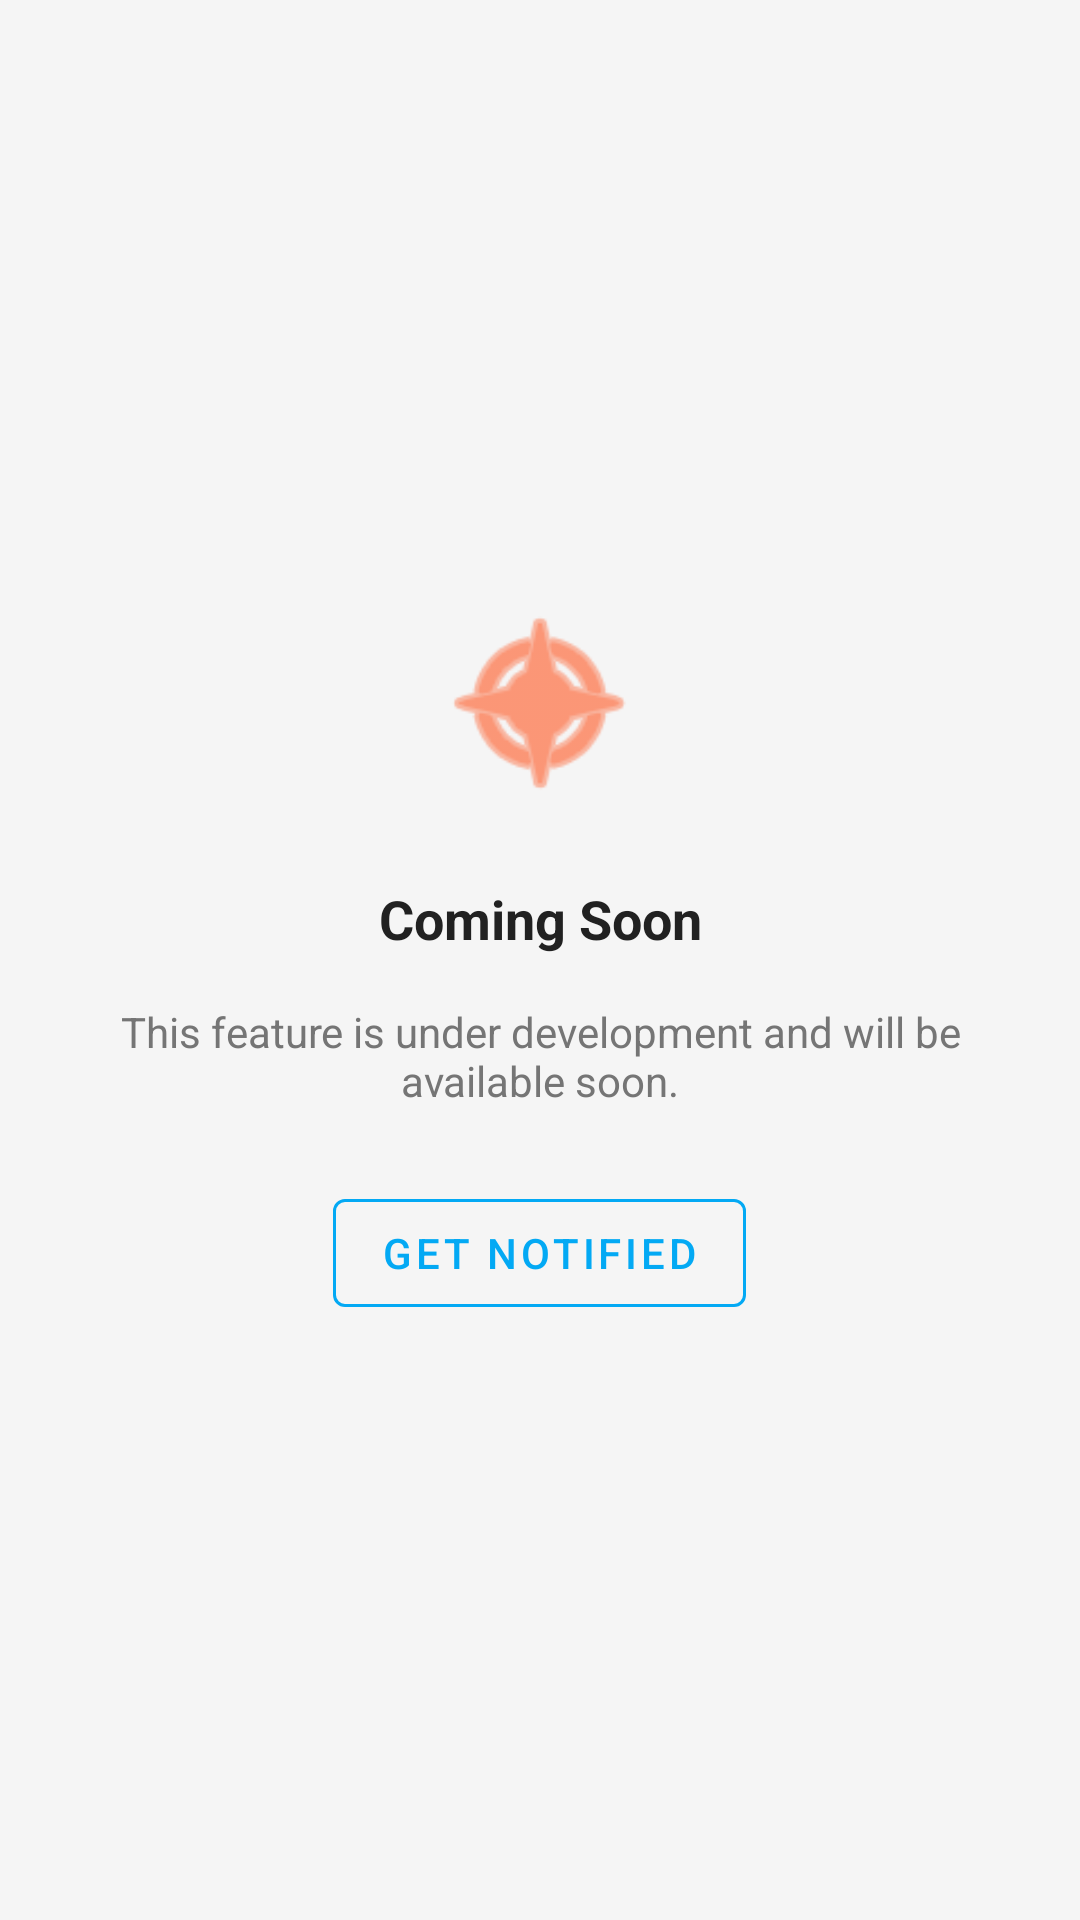

Icons on this 1080 x 1920 Android screen, each with its box as Rect(x1, y1, x2, y2):
compass: Rect(454, 618, 624, 788)
